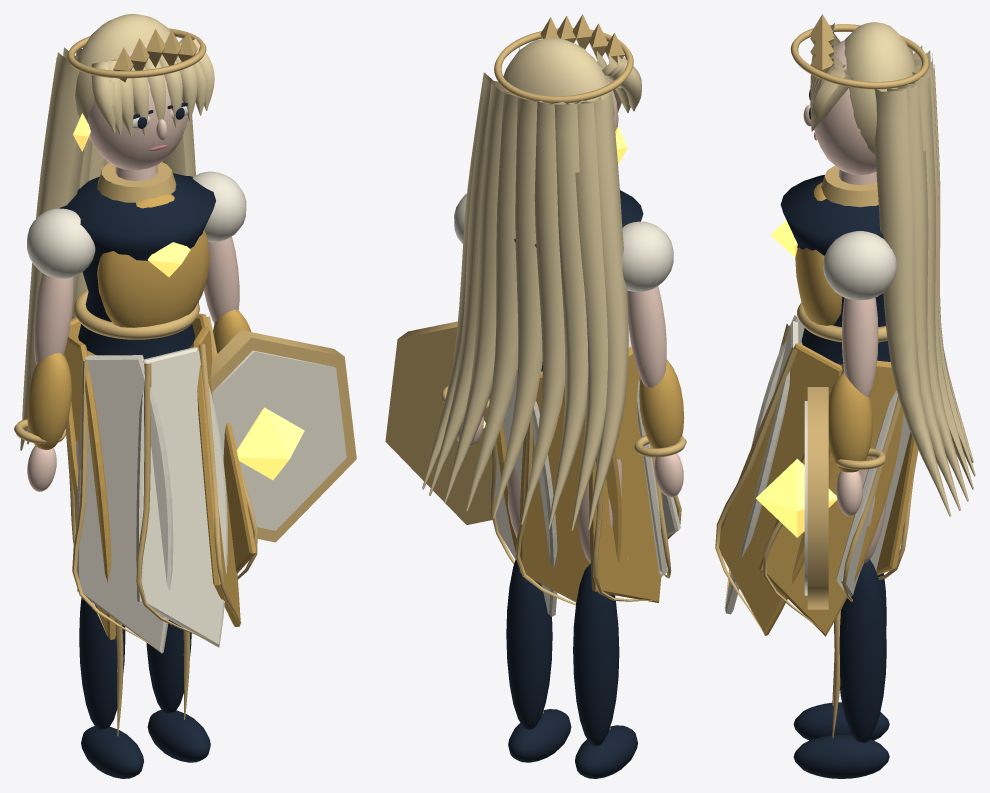
Rendered from guardian.glb.
The picture shows the model from 3 angles, left to right: view 1: azimuth 30°, elevation 25°; view 2: azimuth 150°, elevation 25°; view 3: azimuth 270°, elevation 25°; orthographic projection.
Visible parts, largest first — view 1: node_63, node_75, node_60, node_3, node_4, node_30, node_59, node_10, node_79, node_47, node_73, node_65 (+31 smaller); view 2: node_59, node_32, node_73, node_33, node_30, node_34, node_31, node_71, node_35, node_36, node_79, node_85 (+23 smaller); view 3: node_38, node_65, node_67, node_85, node_3, node_37, node_59, node_11, node_53, node_36, node_55, node_87 (+25 smaller).
Boxes of the visible parts, left/top/right/bottom form: node_63: left=136, top=347, right=227, bottom=647; node_75: left=77, top=355, right=173, bottom=653; node_60: left=212, top=350, right=346, bottom=530; node_3: left=59, top=173, right=215, bottom=359; node_4: left=97, top=194, right=209, bottom=327; node_30: left=20, top=57, right=83, bottom=450; node_59: left=210, top=330, right=356, bottom=542; node_10: left=87, top=45, right=188, bottom=170; node_79: left=79, top=597, right=125, bottom=729; node_47: left=27, top=208, right=95, bottom=278; node_73: left=64, top=333, right=115, bottom=639; node_65: left=192, top=326, right=240, bottom=626; node_59: left=385, top=321, right=492, bottom=524; node_32: left=548, top=100, right=588, bottom=528; node_73: left=589, top=347, right=662, bottom=602; node_33: left=521, top=101, right=565, bottom=524; node_30: left=574, top=94, right=628, bottom=529; node_34: left=493, top=96, right=547, bottom=518; node_31: left=565, top=97, right=607, bottom=530; node_71: left=519, top=371, right=621, bottom=602; node_35: left=466, top=88, right=526, bottom=511; node_36: left=444, top=83, right=519, bottom=503; node_79: left=573, top=564, right=619, bottom=745; node_85: left=506, top=559, right=552, bottom=729; node_38: left=874, top=85, right=951, bottom=516; node_65: left=719, top=343, right=842, bottom=635; node_67: left=759, top=360, right=903, bottom=636; node_85: left=839, top=559, right=886, bottom=742; node_3: left=780, top=175, right=890, bottom=364; node_37: left=887, top=82, right=960, bottom=510; node_59: left=807, top=387, right=828, bottom=609; node_11: left=844, top=22, right=916, bottom=154; node_53: left=823, top=231, right=896, bottom=300; node_36: left=897, top=77, right=968, bottom=501; node_55: left=828, top=372, right=872, bottom=472; node_87: left=793, top=734, right=889, bottom=778.
Bounding box in the file's own units: 0.8641 × 1.96 × 0.6234.
